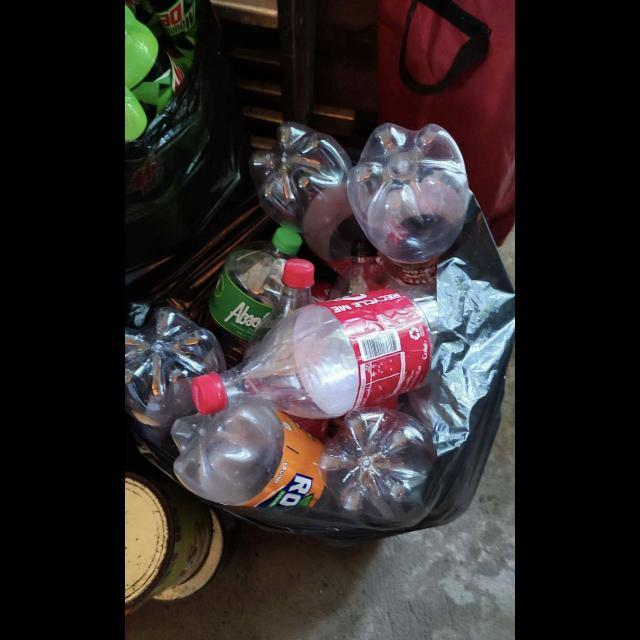plastic_bottle: (191, 281, 438, 418), (346, 123, 476, 289), (249, 121, 373, 276), (172, 401, 338, 513), (125, 306, 228, 458), (202, 229, 304, 368), (317, 406, 439, 519)
